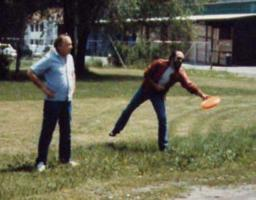person: (108, 51, 210, 152)
